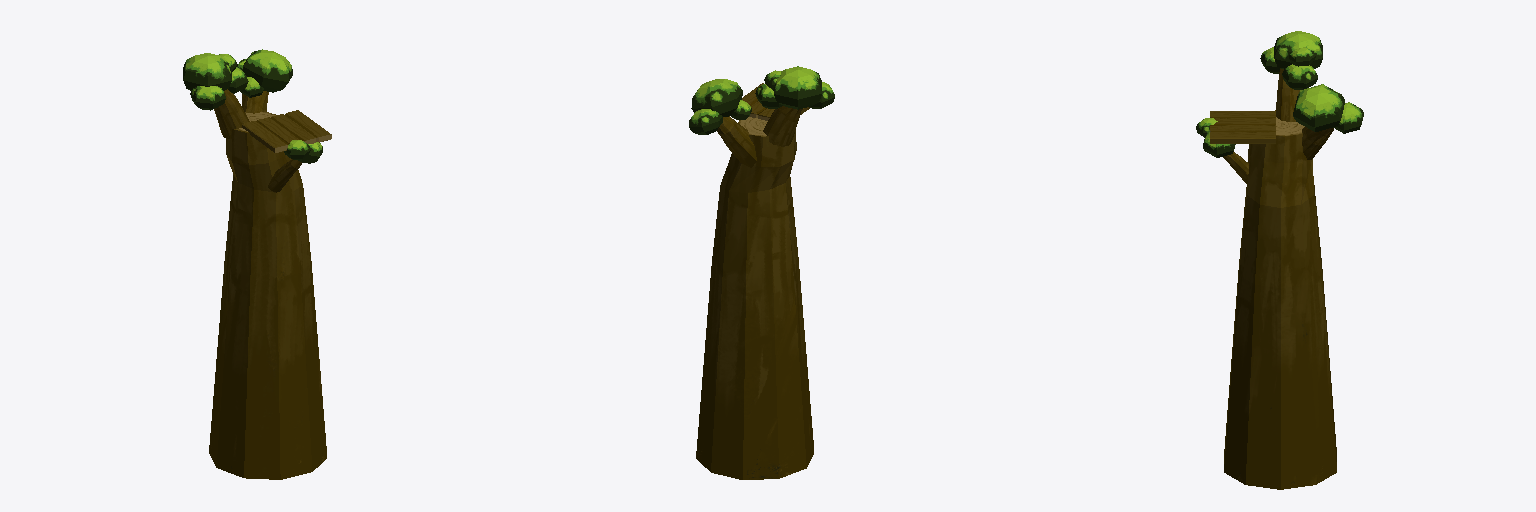
The picture shows the model from 3 angles: view 1: azimuth 30°, elevation 25°; view 2: azimuth 150°, elevation 25°; view 3: azimuth 270°, elevation 25°; orthographic projection.
Visible parts, largest first — view 1: tree_GRP tree_GEO, leaves_GEO tree_GRP, tree_GRP platform_GEO; view 2: tree_GRP tree_GEO, leaves_GEO tree_GRP; view 3: tree_GRP tree_GEO, leaves_GEO tree_GRP, tree_GRP platform_GEO.
Boxes of the visible parts, <box> form: tree_GRP tree_GEO: <box>209,89,326,479</box>; leaves_GEO tree_GRP: <box>183,49,322,163</box>; tree_GRP platform_GEO: <box>242,110,331,152</box>; tree_GRP tree_GEO: <box>696,106,813,479</box>; leaves_GEO tree_GRP: <box>689,66,834,134</box>; tree_GRP tree_GEO: <box>1223,68,1336,489</box>; leaves_GEO tree_GRP: <box>1196,31,1363,157</box>; tree_GRP platform_GEO: <box>1210,111,1275,143</box>.
Bounding box in the file's own units: 75.15 × 227 × 85.67.
Materials: 3 (3 with a texture image).